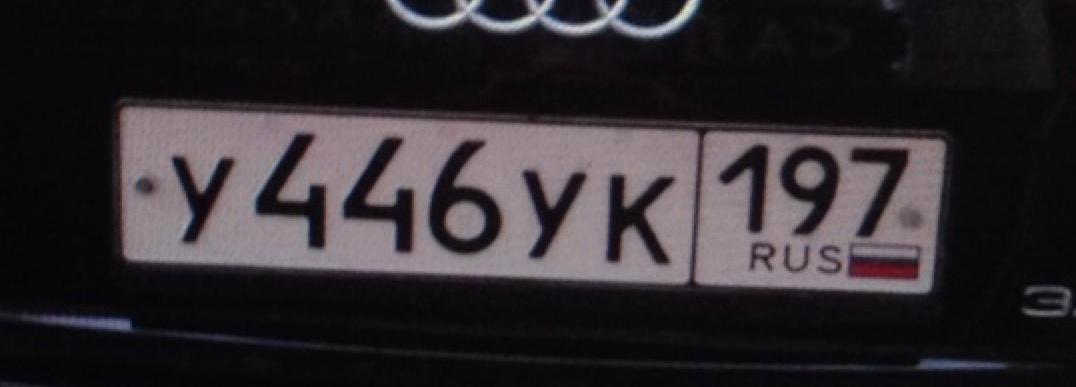license-plate: (113, 101, 946, 292)
